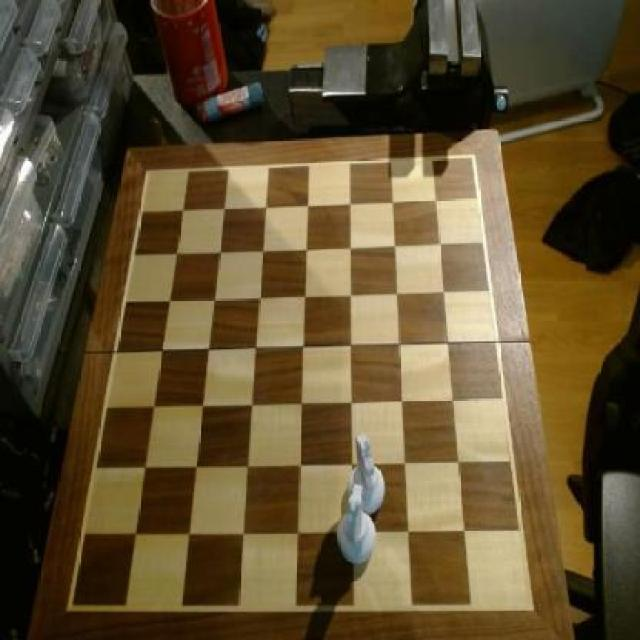white-king: (337, 485, 381, 570), (346, 430, 389, 514)
